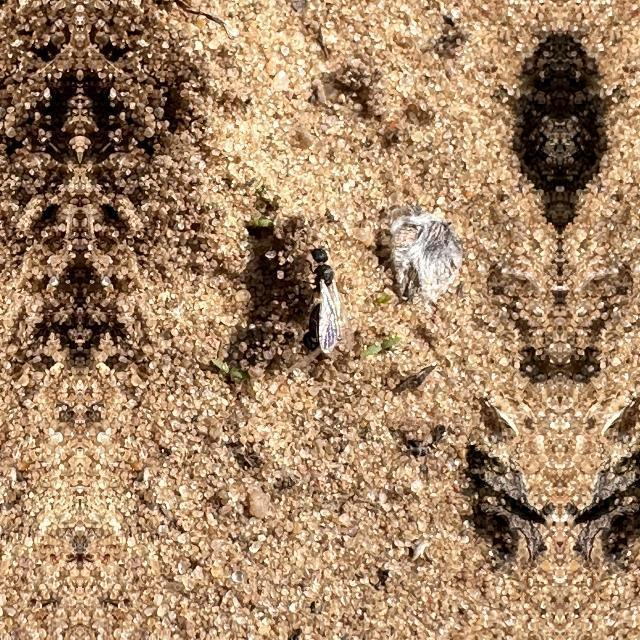Tetramorium: (295, 232, 347, 360)
